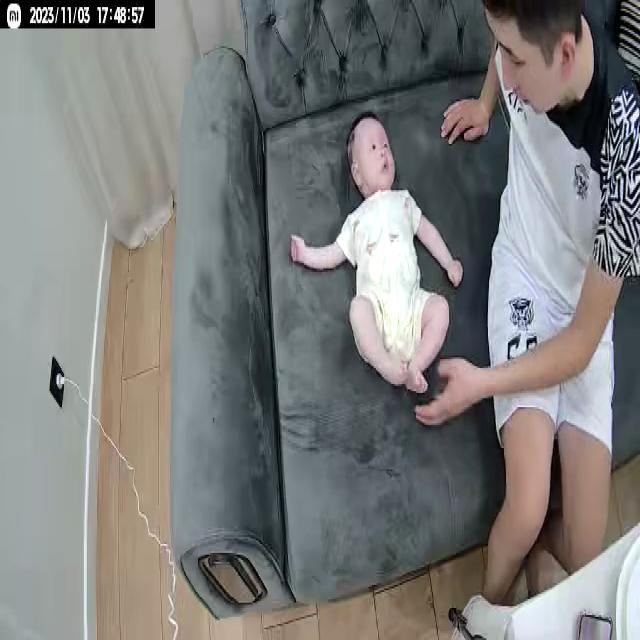baby: (287, 106, 464, 414)
